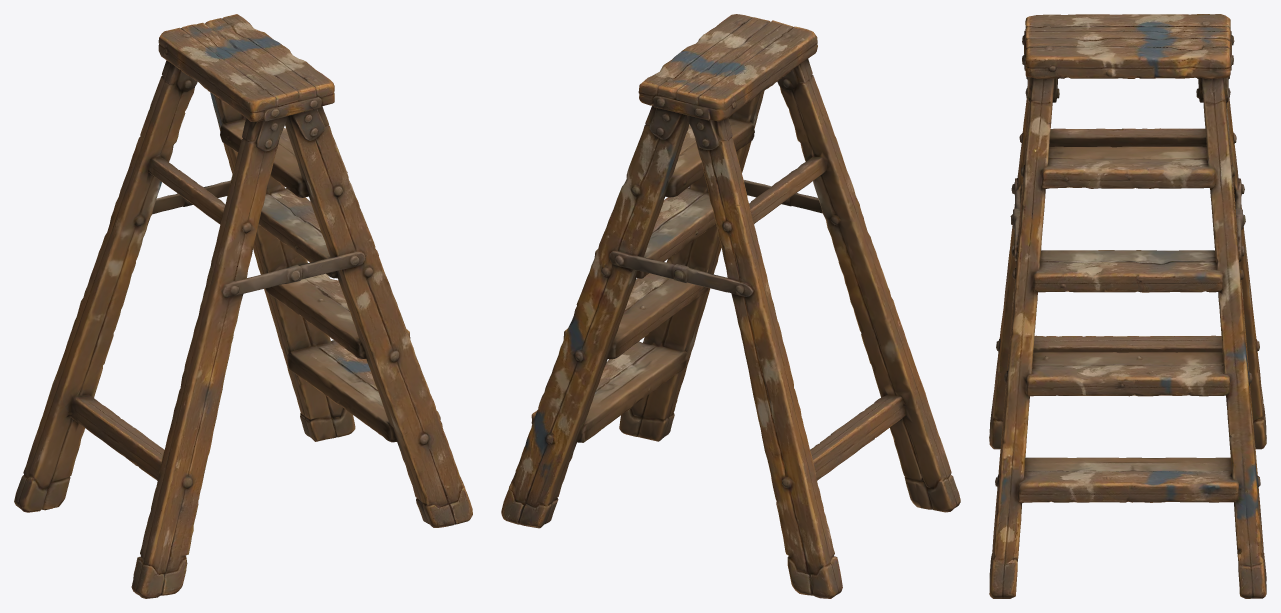
File: m_ladder.glb
3 renders of one model, left to right at view 1: azimuth 30°, elevation 25°; view 2: azimuth 150°, elevation 25°; view 3: azimuth 270°, elevation 25°, orthographic. The views are drawn at different scales.
Parts seen in each view (by area): view 1: tripo_node_c9d5ebd8-b956-4443-8203-2b113be61c13; view 2: tripo_node_c9d5ebd8-b956-4443-8203-2b113be61c13; view 3: tripo_node_c9d5ebd8-b956-4443-8203-2b113be61c13.
Boxes of the visible parts, x1,y1,x2,y2 form: tripo_node_c9d5ebd8-b956-4443-8203-2b113be61c13: (14,14,472,598); tripo_node_c9d5ebd8-b956-4443-8203-2b113be61c13: (501,14,960,598); tripo_node_c9d5ebd8-b956-4443-8203-2b113be61c13: (989,14,1266,598).
Bounding box in the file's own units: 0.7616 × 1 × 0.5199.
1 material, 1 textured.
